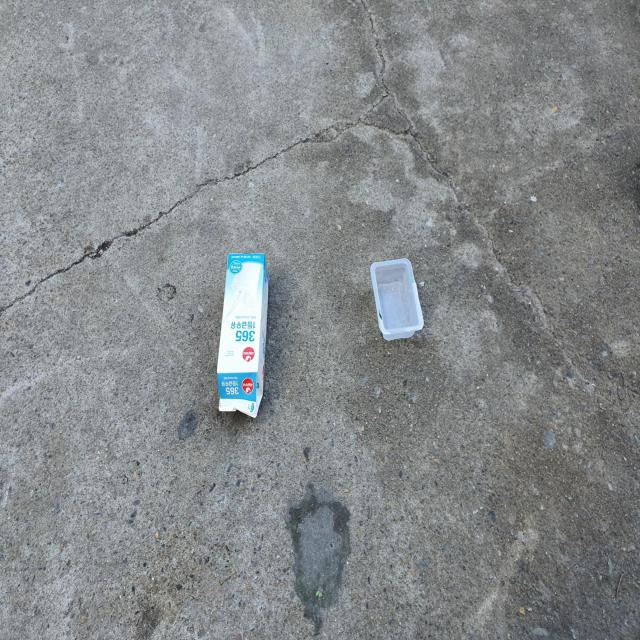paperpack: (217, 253, 269, 418)
plastic: (370, 258, 424, 341)
